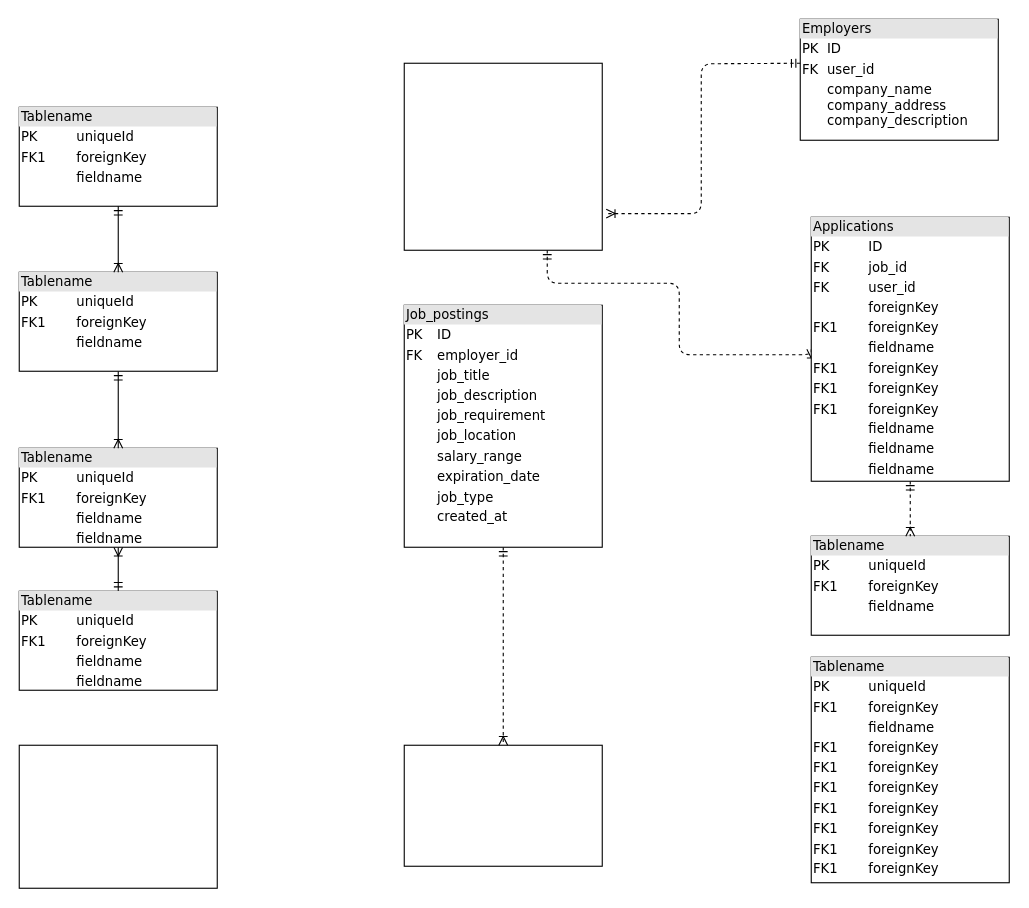
This 1029x908 diagram has some shape labels left out. The shapes that lost their labels are listed below. From the top down, each one's box as (x1, y1, x2, y2) in pixels, then its label:
(403, 62, 602, 250): Users PK ID username password email phone_number fullname avatar created_at
(18, 744, 217, 888): Tablename PK uniqueId FK1 foreignKey fieldname fieldname fieldname fieldname
(403, 744, 602, 866): Tablename PK uniqueId FK1 foreignKey fieldname fieldname FK1 foreignKey
